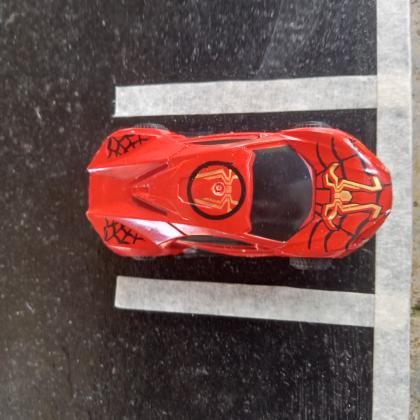Car: (85, 122, 392, 268)
